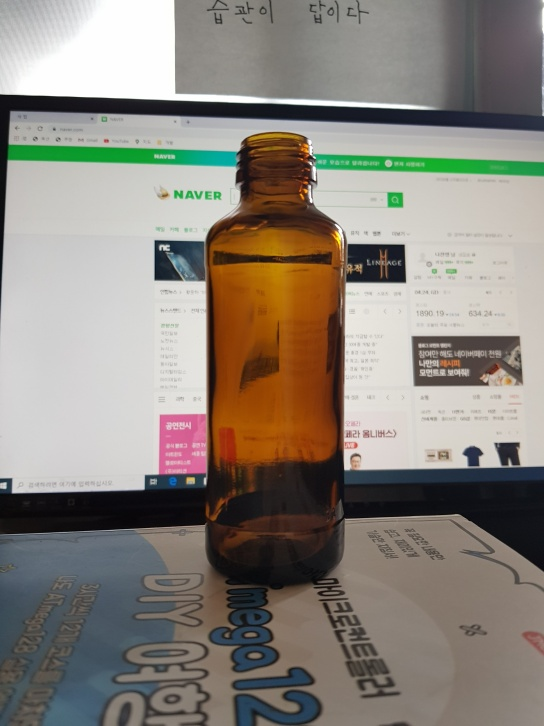Glass: (199, 130, 355, 586)
